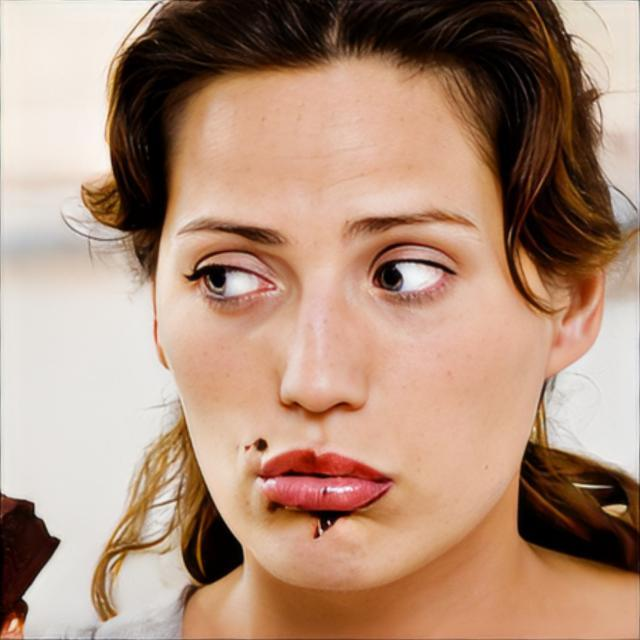sad: (155, 52, 542, 596)
